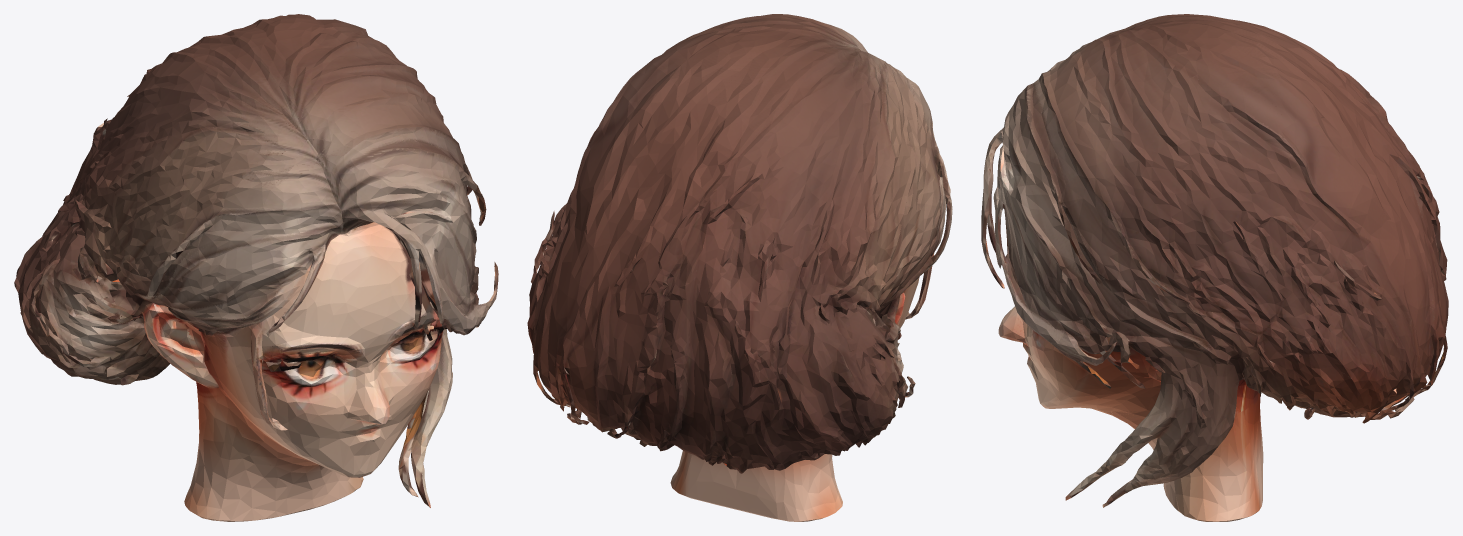
File: side_herbseller_repaired_atlas.glb
The picture shows the model from 3 angles, left to right: view 1: azimuth 30°, elevation 25°; view 2: azimuth 150°, elevation 25°; view 3: azimuth 270°, elevation 25°; orthographic projection. The views are drawn at different scales.
Visible parts, largest first — view 1: temp_mesh.ply; view 2: temp_mesh.ply; view 3: temp_mesh.ply.
Part boxes in pixels (x1,y1,x2,y2): temp_mesh.ply: [14, 14, 498, 521]; temp_mesh.ply: [527, 14, 952, 521]; temp_mesh.ply: [981, 14, 1448, 521].
Bounding box in the file's own units: 1.21 × 1.43 × 1.33.
1 material, 1 textured.
